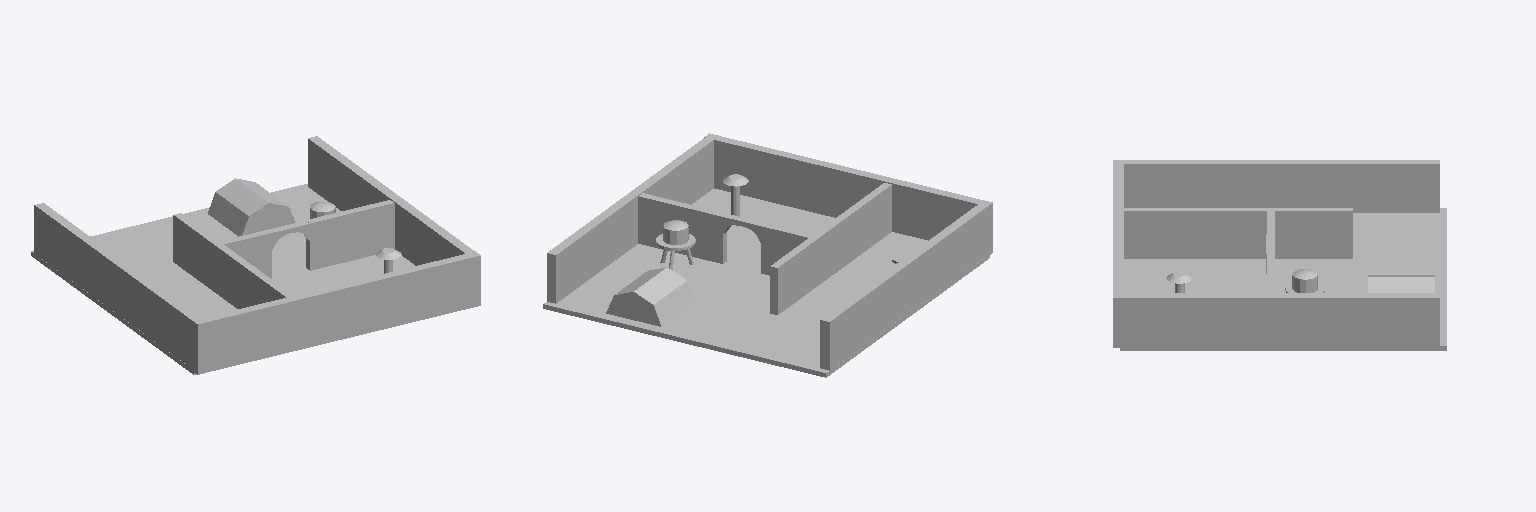
Rendered from level 1.obj.
3 views of the same model, side by side, from view 1: azimuth 30°, elevation 25°; view 2: azimuth 150°, elevation 25°; view 3: azimuth 270°, elevation 25° (orthographic).
Parts seen in each view (by area): view 1: MainWall003, floor, MainWall1, MainWall2, Box001, Box002, Cylinder002, Box003; view 2: floor, MainWall003, MainWall1, MainWall2, Box001, Box002, Cylinder002, Box003, Cylinder001; view 3: MainWall2, MainWall1, floor, Box001, MainWall003, Cylinder002, Cylinder001.
Boxes of the visible parts, <box> form: MainWall003: <box>193,251,480,371</box>; floor: <box>31,184,414,374</box>; MainWall1: <box>34,203,206,374</box>; MainWall2: <box>308,136,480,307</box>; Box001: <box>173,213,293,308</box>; Box002: <box>306,200,394,270</box>; Cylinder002: <box>208,178,295,236</box>; Box003: <box>220,230,271,278</box>; floor: <box>543,188,989,377</box>; MainWall003: <box>704,133,989,240</box>; MainWall1: <box>820,200,992,370</box>; MainWall2: <box>547,135,718,303</box>; Box001: <box>770,183,891,314</box>; Box002: <box>638,193,726,263</box>; Cylinder002: <box>606,267,694,326</box>; Box003: <box>761,223,812,275</box>; Cylinder001: <box>656,220,695,270</box>; MainWall2: <box>1113,293,1439,345</box>; MainWall1: <box>1113,160,1439,212</box>; floor: <box>1120,208,1446,350</box>; Box001: <box>1124,208,1352,258</box>; MainWall003: <box>1113,160,1123,347</box>; Cylinder002: <box>1368,275,1434,292</box>; Cylinder001: <box>1285,269,1324,292</box>.
Size of the model in its own units: 501 by 91.2 by 511.